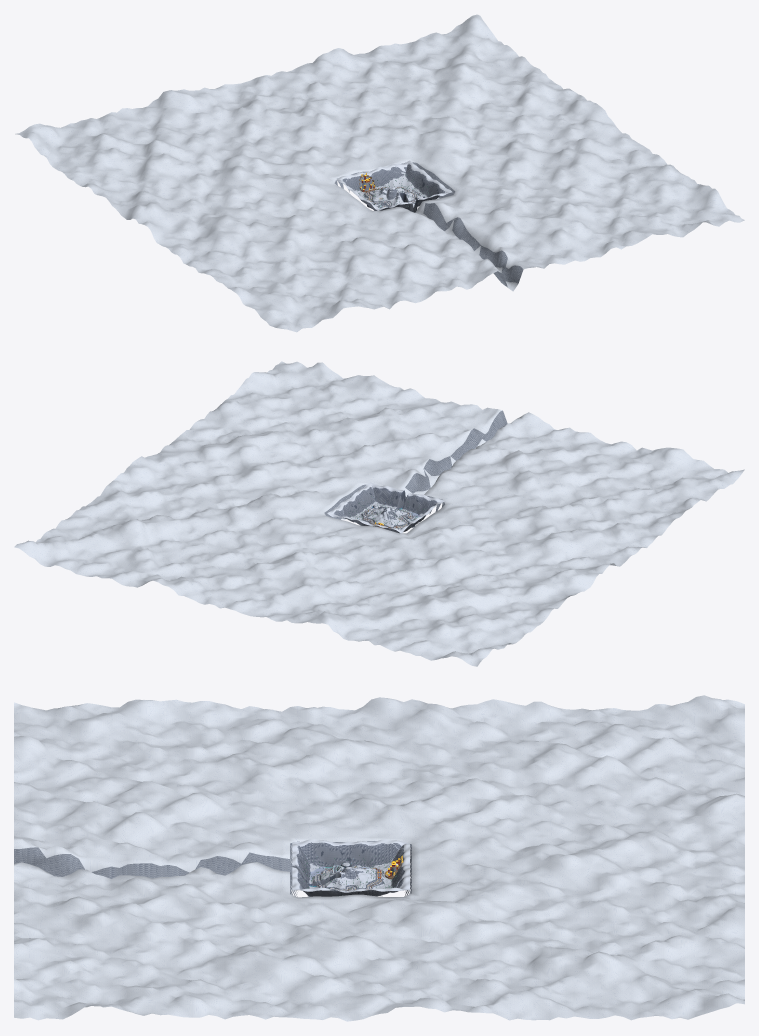
3 views of the same model, one above another, from view 1: azimuth 30°, elevation 25°; view 2: azimuth 150°, elevation 25°; view 3: azimuth 270°, elevation 25° (orthographic). The views are drawn at different scales.
Parts seen in each view (by area): view 1: Far Land, Land; view 2: Far Land, Land; view 3: Far Land, Land.
Part boxes in pixels (left/top/right/bottom): Far Land: left=15, top=14, right=744, bottom=332; Land: left=335, top=160, right=452, bottom=212; Far Land: left=14, top=361, right=744, bottom=666; Land: left=327, top=482, right=444, bottom=533; Far Land: left=14, top=695, right=744, bottom=1021; Land: left=292, top=839, right=409, bottom=896.
Size of the model in its own units: 7200 by 449 by 7200.
Materials: 53 (53 with a texture image).
